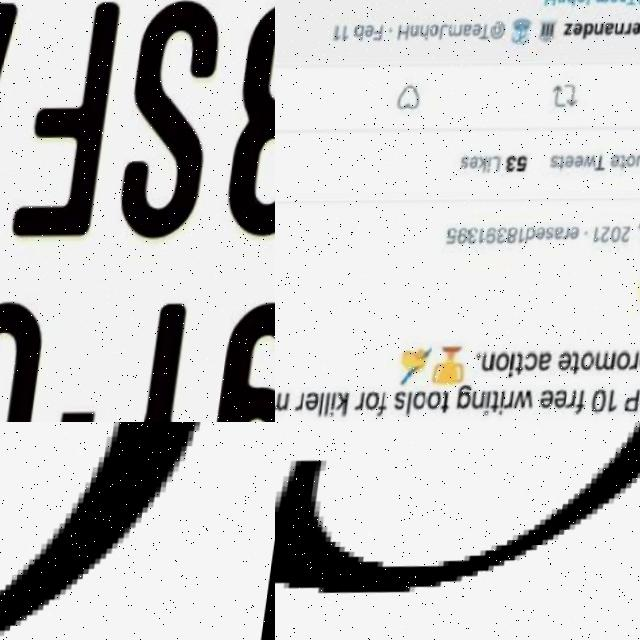0: (602, 393, 619, 418), (618, 231, 629, 247)
1: (619, 393, 631, 418), (600, 228, 609, 248), (337, 27, 347, 42), (525, 231, 533, 248), (486, 231, 494, 247), (345, 26, 353, 42)
2: (628, 231, 639, 247), (608, 231, 618, 248)
3: (511, 159, 523, 175), (504, 231, 515, 247), (475, 231, 486, 247)
5: (454, 231, 464, 248), (522, 159, 533, 174)
8: (228, 0, 275, 248), (513, 231, 525, 247)
9: (210, 296, 275, 422), (493, 231, 504, 248), (465, 231, 475, 248)
A: (0, 3, 24, 243)
C: (275, 432, 640, 594), (0, 422, 211, 640), (0, 302, 56, 422)
F: (13, 0, 126, 242)
S: (118, 0, 230, 248)
Y: (115, 302, 220, 422)
